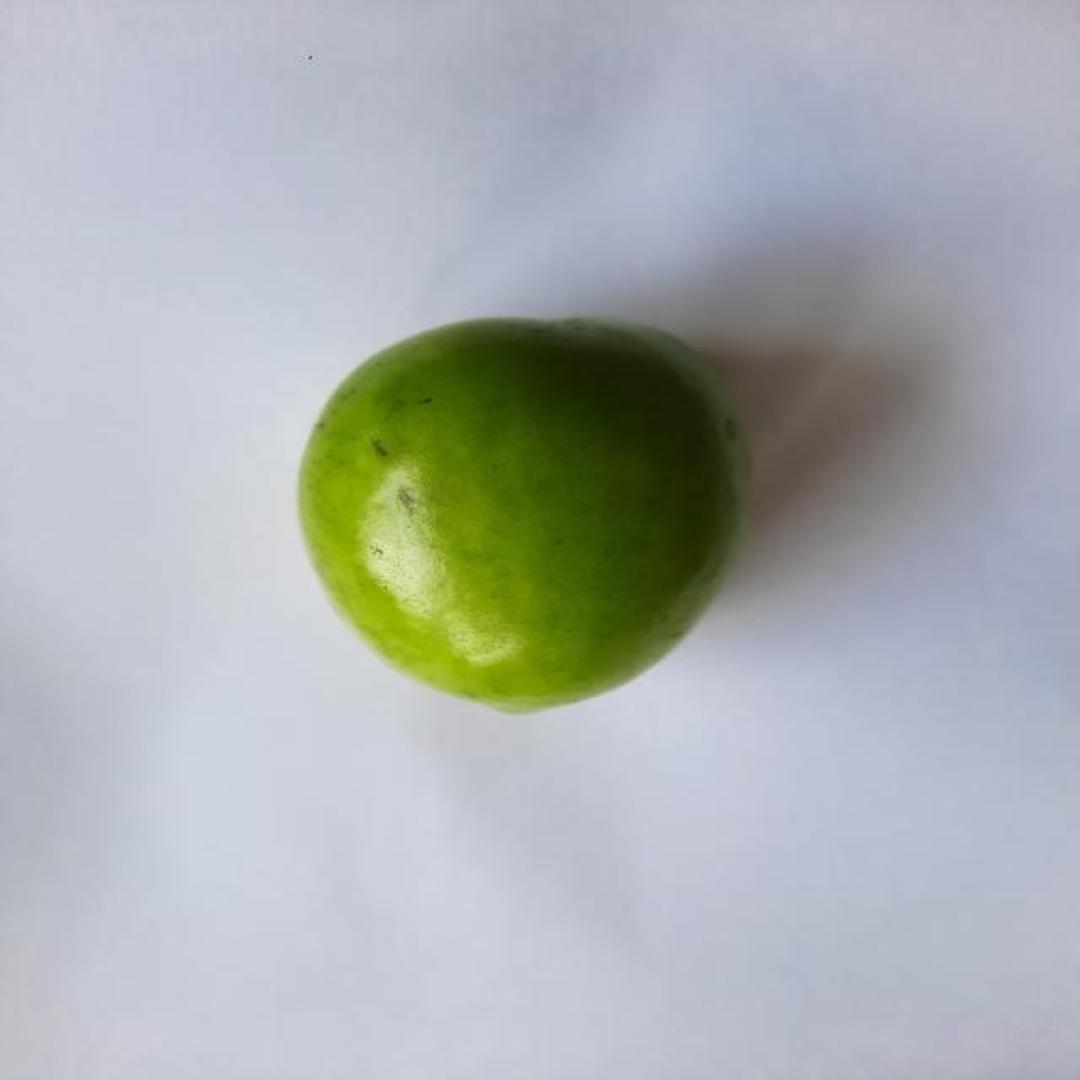mentah: (295, 316, 746, 716)
